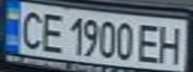0: (115, 19, 139, 62), (97, 18, 118, 60)
1: (63, 13, 84, 55)
9: (78, 16, 100, 57)
C: (15, 7, 48, 51)
E: (36, 9, 66, 53), (136, 20, 163, 64)
H: (154, 21, 187, 65)
